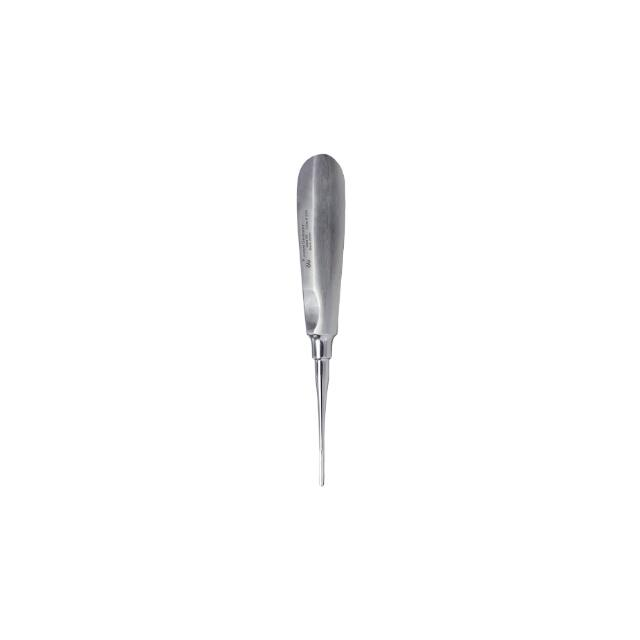botador: (295, 154, 348, 490)
